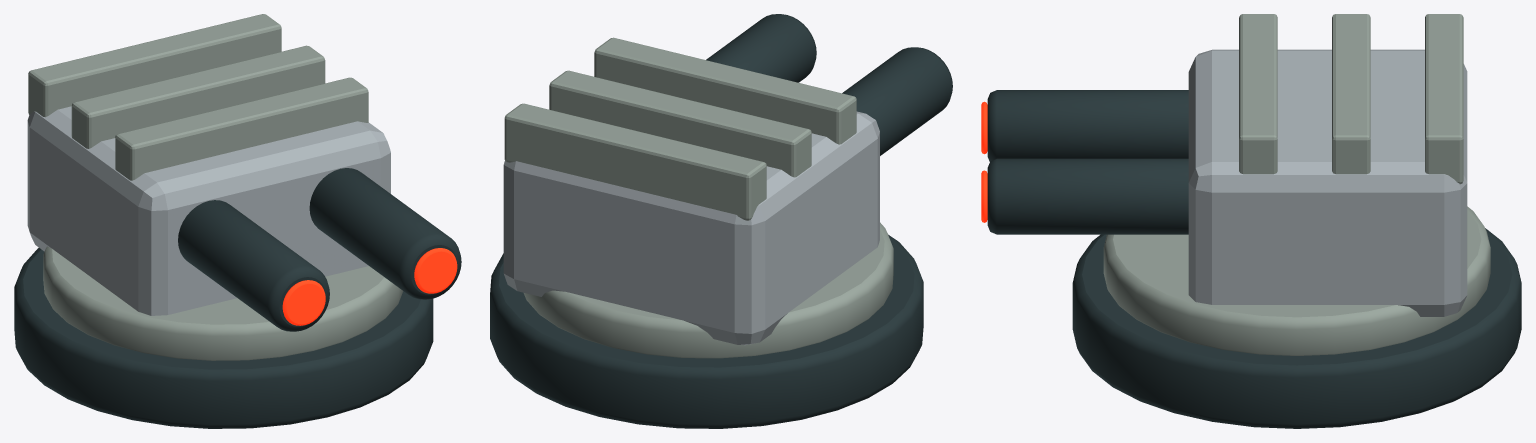
File: battlecity-laser-item.glb
3 views of the same model, side by side, from view 1: azimuth 30°, elevation 25°; view 2: azimuth 150°, elevation 25°; view 3: azimuth 270°, elevation 25° (orthographic). The views are drawn at different scales.
Parts seen in each view (by area): view 1: Brushed steel, DX dark machinery, DX chrome, Warning red; view 2: Brushed steel, DX chrome, DX dark machinery; view 3: DX dark machinery, DX chrome, Brushed steel, Warning red.
Part boxes in pixels (box(x1,y1,x2,y2)): Brushed steel: box(28, 14, 403, 360); DX dark machinery: box(14, 168, 461, 428); DX chrome: box(27, 106, 390, 315); Warning red: box(282, 248, 457, 325); Brushed steel: box(504, 37, 893, 358); DX chrome: box(503, 111, 879, 345); DX dark machinery: box(490, 14, 952, 428); DX dark machinery: box(987, 90, 1521, 428); DX chrome: box(1188, 49, 1467, 316); Brushed steel: box(1103, 14, 1490, 355); Warning red: box(981, 101, 987, 222).
Size of the model in its own units: 0.58 by 0.375 by 0.698.
